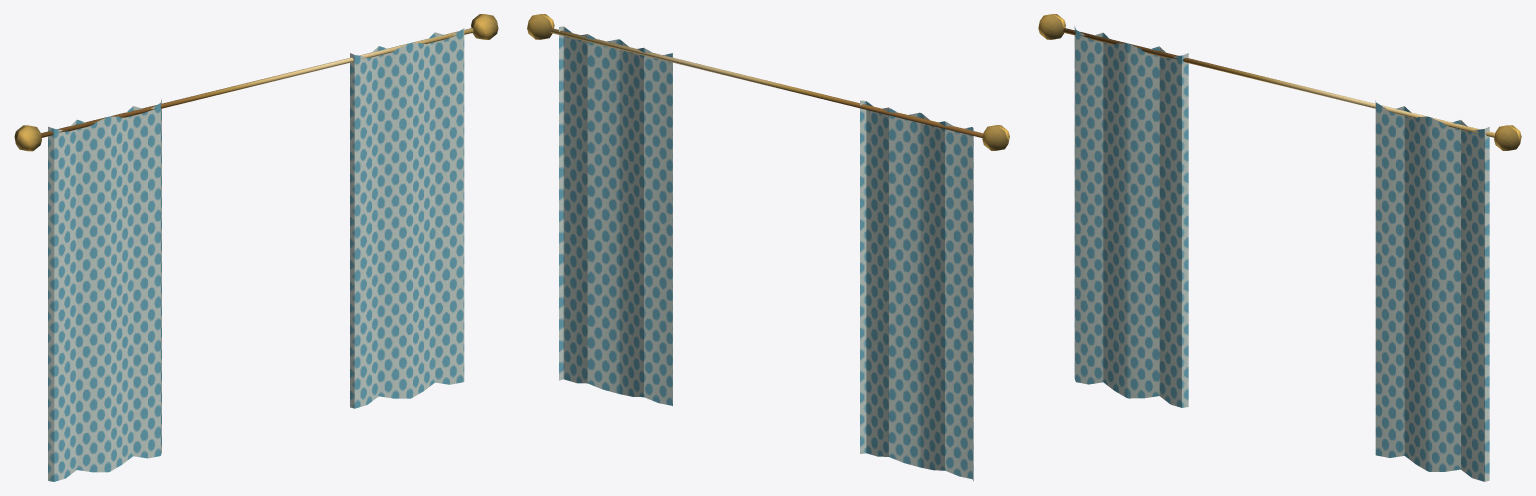
Rendered from Straight_Curtains_07.FBX.
The picture shows the model from 3 angles, left to right: view 1: azimuth 30°, elevation 25°; view 2: azimuth 150°, elevation 25°; view 3: azimuth 330°, elevation 25°; orthographic projection.
Visible parts, largest first — view 1: Straight_Curtain; view 2: Straight_Curtain; view 3: Straight_Curtain.
Part boxes in pixels (x1=…): Straight_Curtain: x1=14, y1=14, x2=498, y2=481; Straight_Curtain: x1=527, y1=14, x2=1009, y2=481; Straight_Curtain: x1=1038, y1=14, x2=1521, y2=481.
Bounding box in the file's own units: 582 × 421 × 29.96.
